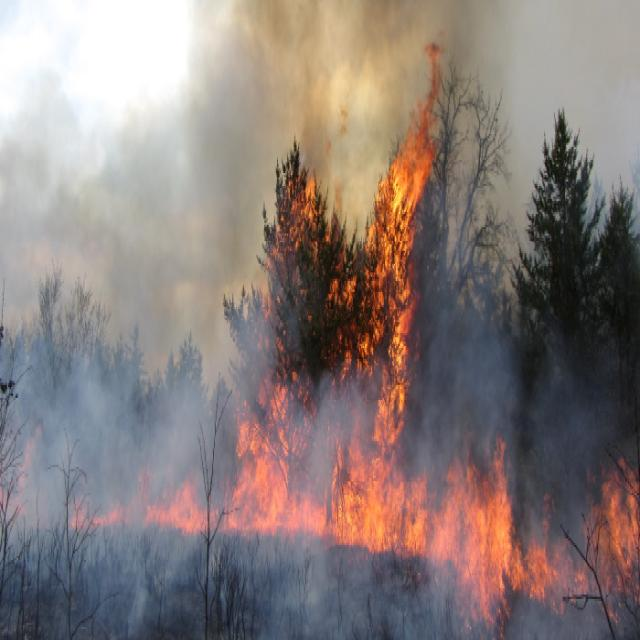Fire: (65, 78, 640, 607)
Smoke: (1, 0, 640, 640)
